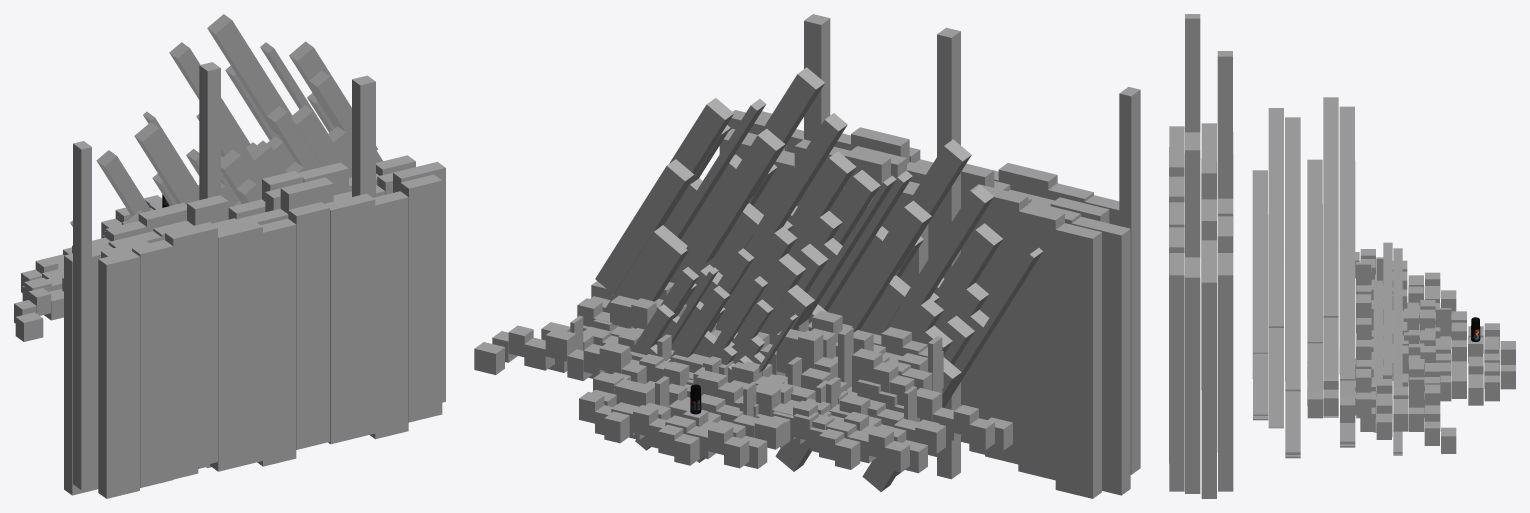
Rendered from STRYDE_60mL.fbx.
The picture shows the model from 3 angles, left to right: view 1: azimuth 30°, elevation 25°; view 2: azimuth 150°, elevation 25°; view 3: azimuth 270°, elevation 25°; orthographic projection. The views are drawn at different scales.
Parts seen in each view (by area): view 1: AbstractCubes; view 2: AbstractCubes; view 3: AbstractCubes.
Part boxes in pixels (x1,y1,x2,y2): AbstractCubes: [14, 14, 445, 498]; AbstractCubes: [474, 14, 1140, 498]; AbstractCubes: [1169, 14, 1515, 498].
Size of the model in its own units: 19550 by 16385 by 14032.
